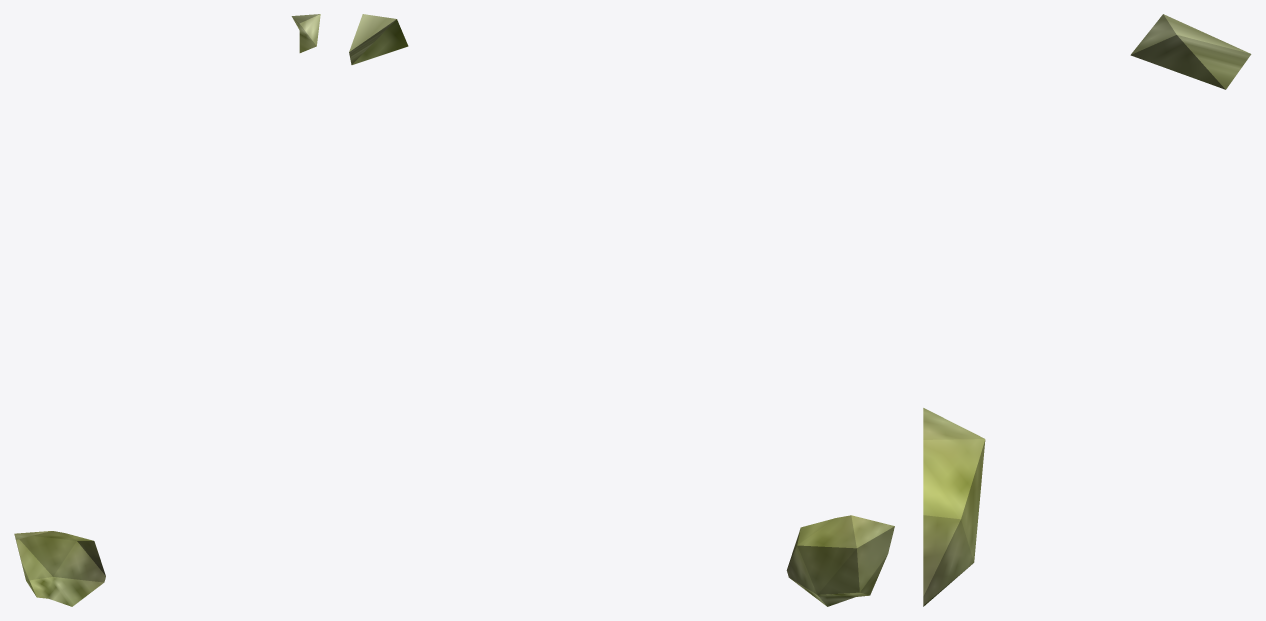
3 renders of one model, left to right at view 1: azimuth 30°, elevation 25°; view 2: azimuth 150°, elevation 25°; view 3: azimuth 270°, elevation 25°, orthographic. The views are drawn at different scales.
Size of the model in its own units: 0.6836 by 0.8143 by 0.2824.
Materials: 1 (1 with a texture image).
